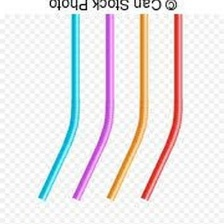drinking_straw: (34, 11, 88, 206), (138, 11, 189, 207), (69, 11, 119, 207), (104, 12, 153, 208)
